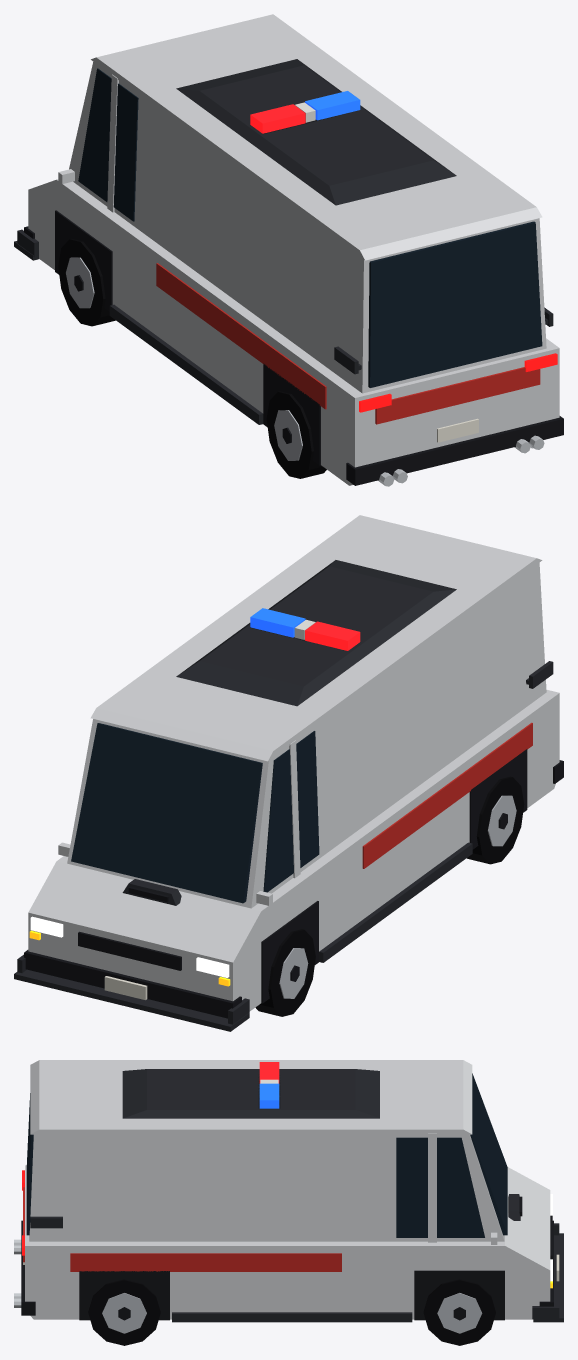
Rendered from car_ambulance.glb.
3 views of the same model, one above another, from view 1: azimuth 30°, elevation 25°; view 2: azimuth 150°, elevation 25°; view 3: azimuth 270°, elevation 25° (orthographic). The views are drawn at different scales.
Parts seen in each view (by area): view 1: car_ambulance__body, car_ambulance__mod_roof, car_ambulance__wheel_rl, car_ambulance__wheel_fl, car_ambulance__mod_skirts, car_ambulance__mod_exhaust; view 2: car_ambulance__body, car_ambulance__mod_roof, car_ambulance__mod_bumper, car_ambulance__wheel_fl, car_ambulance__wheel_rl, car_ambulance__mod_skirts, car_ambulance__mod_hood; view 3: car_ambulance__body, car_ambulance__mod_roof, car_ambulance__wheel_rr, car_ambulance__wheel_fr, car_ambulance__mod_skirts, car_ambulance__mod_bumper, car_ambulance__mod_spoiler, car_ambulance__mod_hood.
Boxes of the visible parts, x1,y1,x2,y2 form: car_ambulance__body: (24,14,563,485); car_ambulance__mod_roof: (176,59,456,205); car_ambulance__wheel_rl: (266,391,326,478); car_ambulance__wheel_fl: (58,238,115,326); car_ambulance__mod_skirts: (109,304,263,424); car_ambulance__mod_exhaust: (378,435,544,486); car_ambulance__body: (24,515,563,1018); car_ambulance__mod_roof: (176,560,456,706); car_ambulance__mod_bumper: (14,954,249,1031); car_ambulance__wheel_fl: (255,929,315,1016); car_ambulance__wheel_rl: (467,776,524,864); car_ambulance__mod_skirts: (319,842,472,962); car_ambulance__mod_hood: (122,879,181,905); car_ambulance__body: (21,1060,559,1320); car_ambulance__mod_roof: (122,1069,379,1118); car_ambulance__wheel_rr: (88,1279,160,1345); car_ambulance__wheel_fr: (423,1279,495,1345); car_ambulance__mod_skirts: (172,1312,412,1322); car_ambulance__mod_bumper: (532,1223,563,1322); car_ambulance__mod_spoiler: (30,1216,62,1228); car_ambulance__mod_hood: (508,1194,522,1220).
Bounding box in the file's own units: 2.23 × 2.72 × 6.07.
